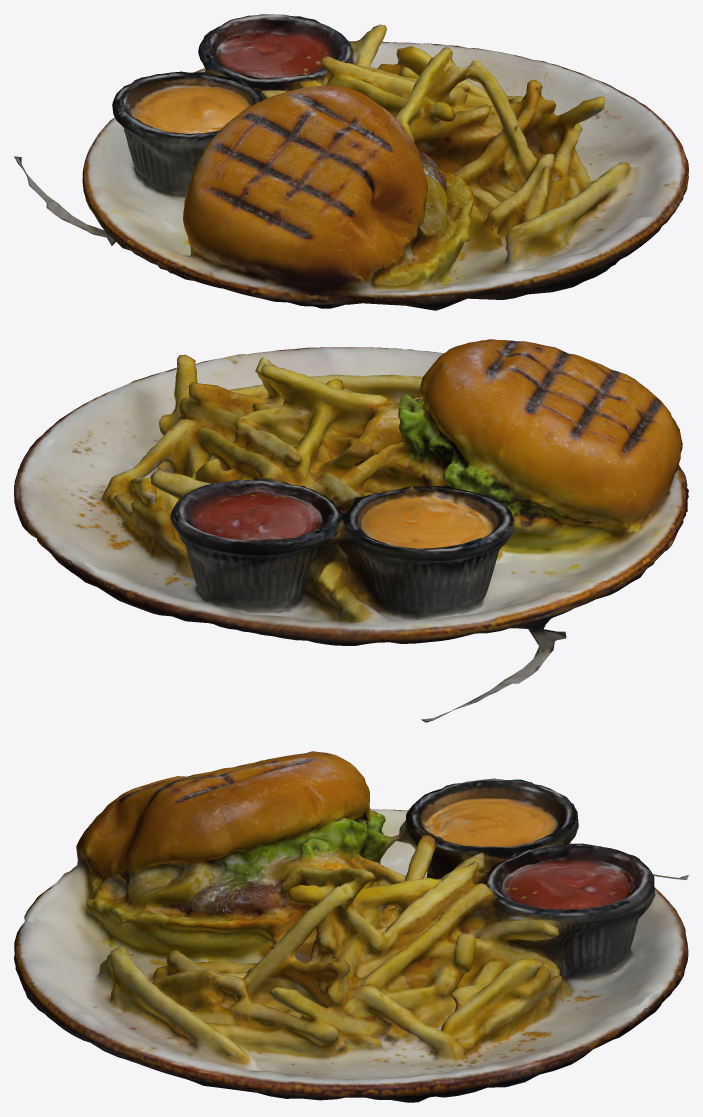
The model's file is beefBurger_1752057967754.glb.
3 views of the same model, one above another, from view 1: azimuth 30°, elevation 25°; view 2: azimuth 150°, elevation 25°; view 3: azimuth 270°, elevation 25° (orthographic). The views are drawn at different scales.
Visible parts, largest first — view 1: 3DModel_Custom; view 2: 3DModel_Custom; view 3: 3DModel_Custom.
Part boxes in pixels (x1=…): 3DModel_Custom: x1=14, y1=14, x2=688, y2=310; 3DModel_Custom: x1=14, y1=339, x2=688, y2=722; 3DModel_Custom: x1=14, y1=751, x2=688, y2=1102.
Size of the model in its own units: 0.28 by 0.0847 by 0.2786.
Materials: 1 (1 with a texture image).
